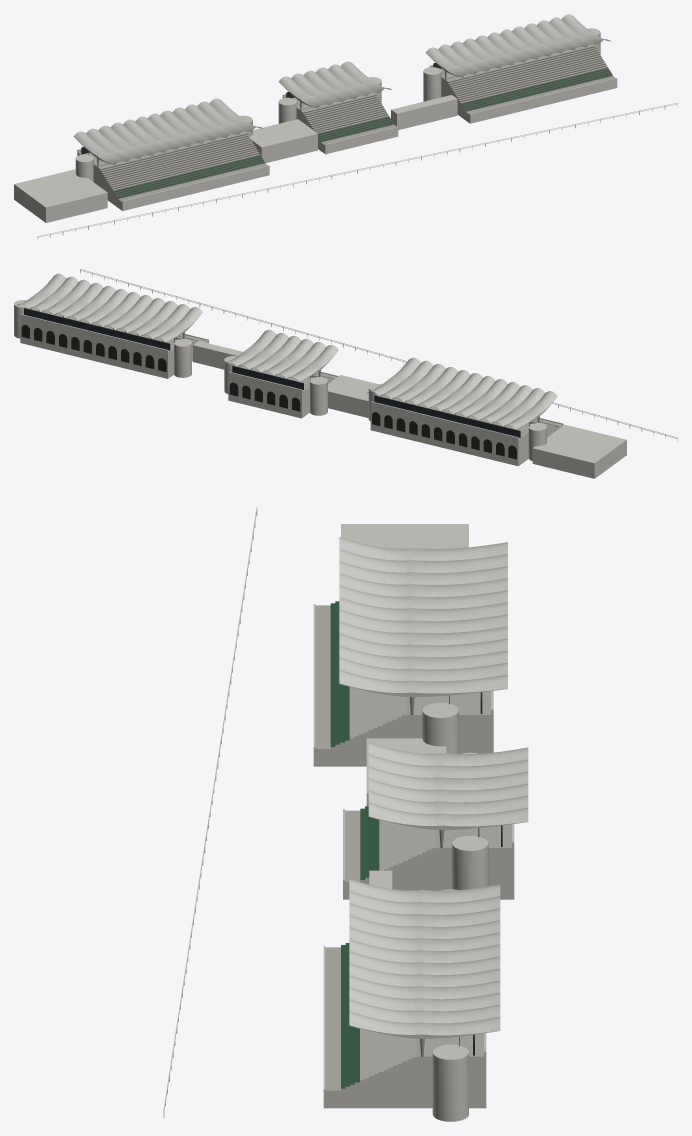
3 views of the same model, one above another, from view 1: azimuth 30°, elevation 25°; view 2: azimuth 150°, elevation 25°; view 3: azimuth 270°, elevation 25° (orthographic). The views are drawn at different scales.
Parts seen in each view (by area): view 1: grandstands, shells, rail; view 2: grandstands, shells, rail; view 3: shells, grandstands, rail.
Boxes of the visible parts, <box> form: grandstands: <box>14,28,617,222</box>; shells: <box>73,14,610,167</box>; rail: <box>37,102,677,240</box>; grandstands: <box>14,300,626,478</box>; shells: <box>16,273,557,429</box>; rail: <box>80,269,677,441</box>; shells: <box>339,537,528,1056</box>; grandstands: <box>313,524,514,1121</box>; rail: <box>163,507,257,1117</box>.
Bounding box in the file's own units: 250 × 17.46 × 64.
